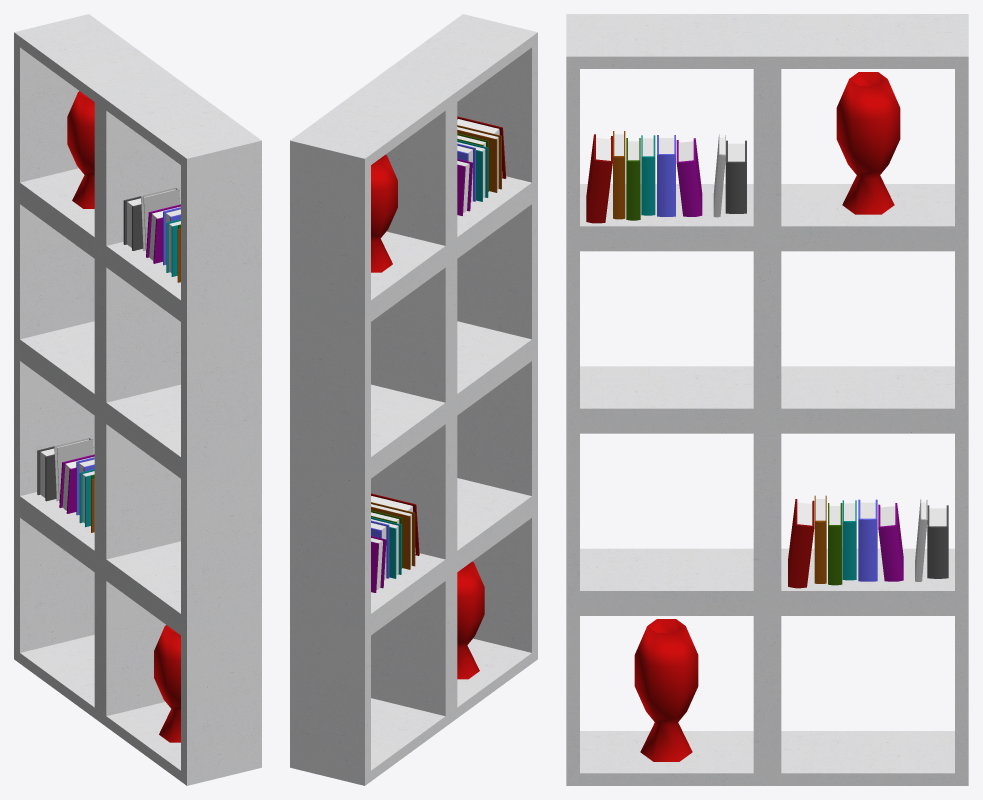
File: Decorated shelve medium SHC QuickOffice.fbx
3 views of the same model, side by side, from view 1: azimuth 30°, elevation 25°; view 2: azimuth 150°, elevation 25°; view 3: azimuth 270°, elevation 25° (orthographic). The views are drawn at different scales.
Parts seen in each view (by area): view 1: Component_121_2, Component_121_1, Component_132_1, Component_132_2, Component_130_1, Component_130_2, Component_129_2, Component_129_1, Component_128_2, Component_128_1, Component_125_2, Component_125_1; view 2: Component_121_2, Component_121_1, Component_132_2, Component_132_1, Component_123_2, Component_123_1, Component_128_1, Component_125_2, Component_125_1, Component_128_2, Component_122_2, Component_122_1 (+2 smaller); view 3: Component_121_2, Component_121_1, Component_132_1, Component_132_2, Component_122_2, Component_122_1, Component_128_1, Component_128_2, Component_126_2, Component_130_2, Component_130_1, Component_126_1 (+8 smaller).
Boxes of the visible parts, <box> form: Component_121_2: <box>14,14,261,472</box>; Component_121_1: <box>14,346,261,785</box>; Component_132_1: <box>67,91,94,208</box>; Component_132_2: <box>154,625,180,742</box>; Component_130_1: <box>123,196,142,250</box>; Component_130_2: <box>37,446,56,501</box>; Component_129_2: <box>54,437,93,502</box>; Component_129_1: <box>141,187,179,252</box>; Component_128_2: <box>59,454,94,513</box>; Component_128_1: <box>146,204,180,263</box>; Component_125_2: <box>79,469,94,527</box>; Component_125_1: <box>166,219,180,276</box>; Component_121_2: <box>290,14,537,472</box>; Component_121_1: <box>290,346,537,785</box>; Component_132_2: <box>457,561,484,679</box>; Component_132_1: <box>371,154,397,272</box>; Component_123_2: <box>371,502,415,569</box>; Component_123_1: <box>457,125,501,192</box>; Component_128_1: <box>457,159,472,215</box>; Component_125_2: <box>371,517,401,578</box>; Component_125_1: <box>457,140,488,201</box>; Component_128_2: <box>371,536,386,592</box>; Component_122_2: <box>371,493,419,555</box>; Component_122_1: <box>457,116,506,178</box>; Component_121_2: <box>566,14,968,421</box>; Component_121_1: <box>566,421,968,785</box>; Component_132_1: <box>836,72,900,214</box>; Component_132_2: <box>634,619,698,761</box>; Component_122_2: <box>788,499,814,588</box>; Component_122_1: <box>586,134,612,223</box>; Component_128_1: <box>676,138,702,216</box>; Component_128_2: <box>878,503,903,581</box>; Component_126_2: <box>858,499,877,581</box>; Component_130_2: <box>927,505,948,578</box>; Component_130_1: <box>725,140,746,213</box>; Component_126_1: <box>657,135,675,216</box>.
Size of what is drawn, in the model's own units: 0.3559 by 2.85 by 1.42.
